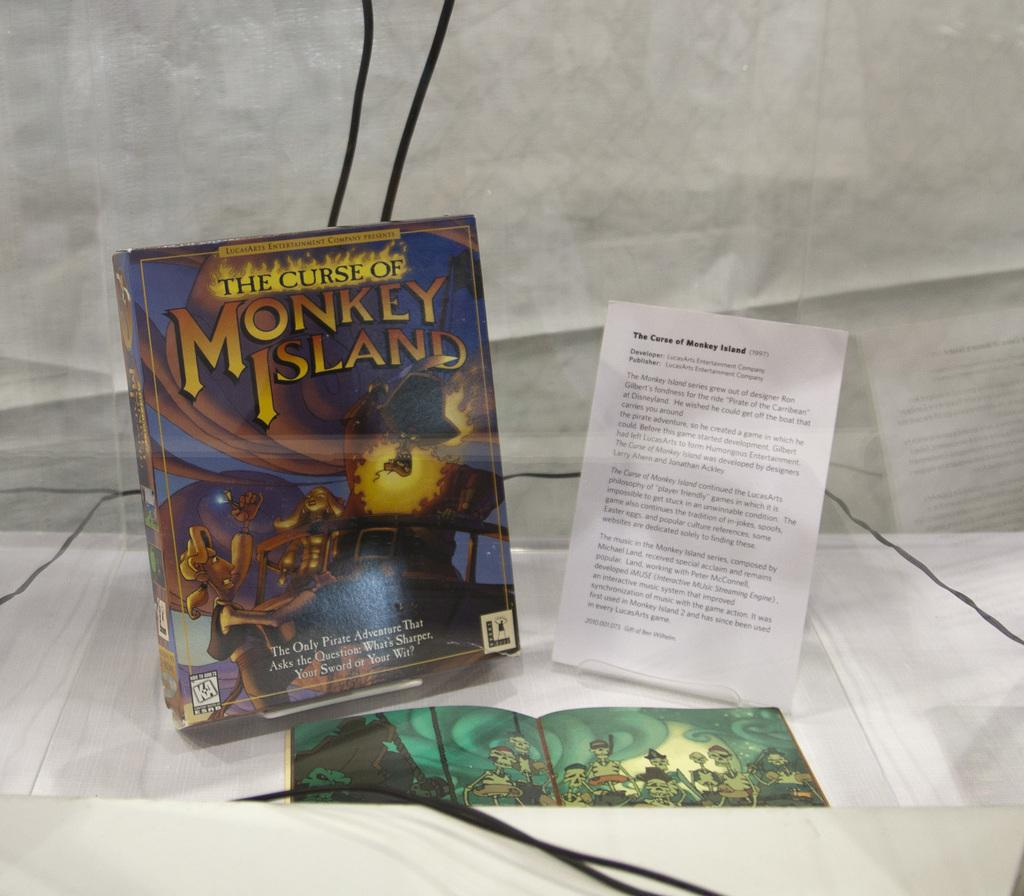book: (135, 161, 536, 786), (533, 292, 845, 712)
